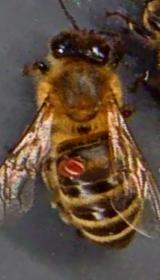varroa_mite: (59, 152, 87, 178)
